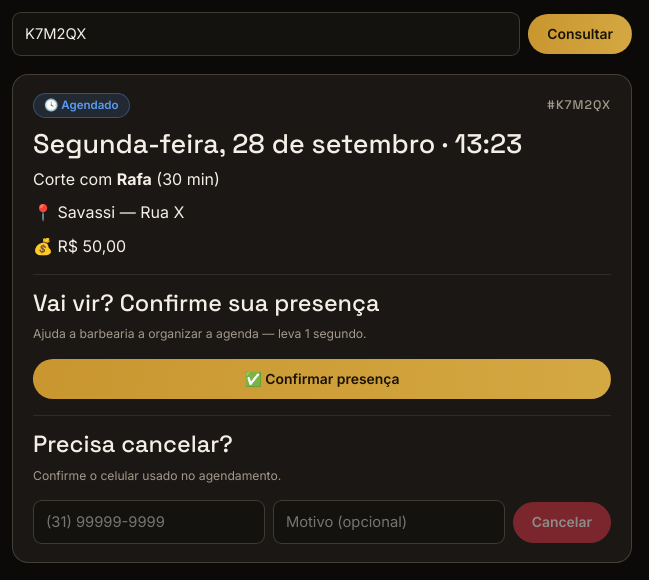
it: Meu horário › cliente confirma presença pelo site
Click the button "✅ Confirmar presença". click: point(322, 379)
box: [33,358,611,399]
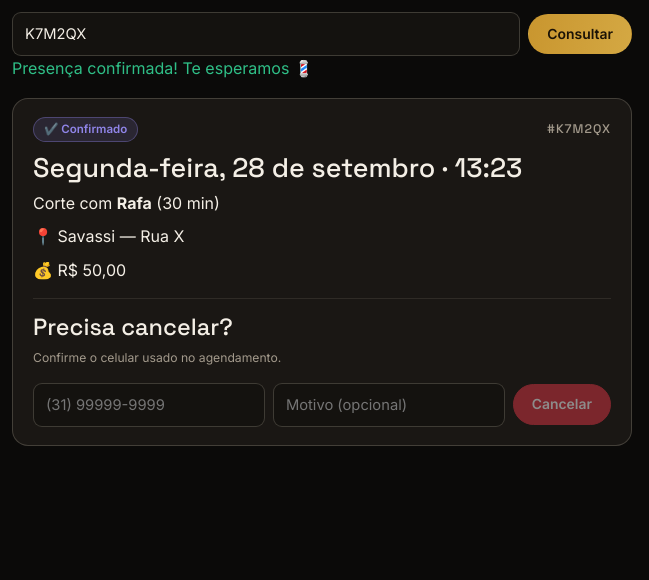
Check: the text "Presença confirmada! Te esperamos 💈" is shown, box [12,58,314,78]
Check: the button "✅ Confirmar presença" is gone
